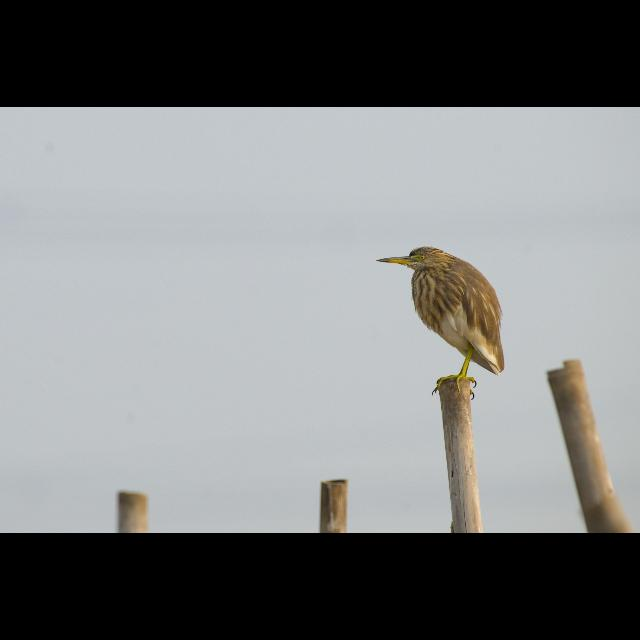heron: (372, 240, 516, 408)
